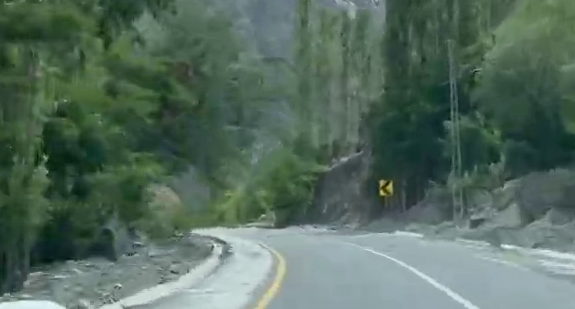right: (249, 174, 467, 288)
